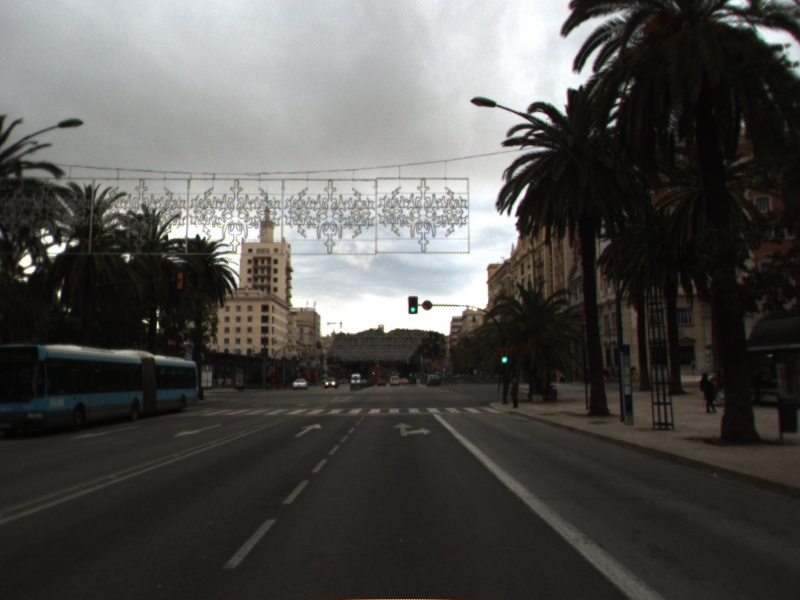STRAIGHT: (292, 422, 324, 439)
STRAIGHT_RIGHT: (391, 421, 433, 438)
